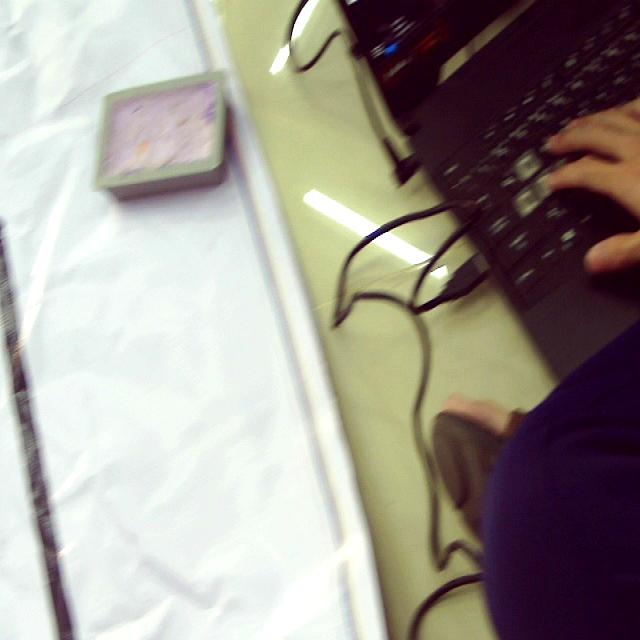block: (92, 72, 231, 199)
